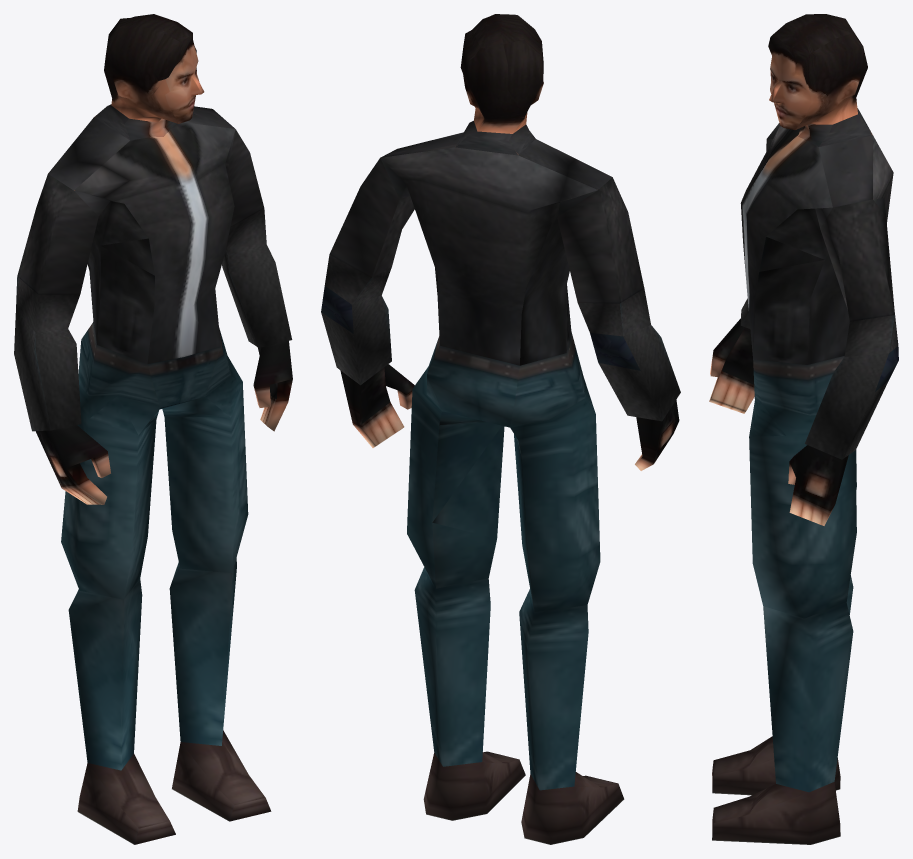
Rendered from Manuel66.obj.
3 renders of one model, left to right at view 1: azimuth 30°, elevation 25°; view 2: azimuth 150°, elevation 25°; view 3: azimuth 270°, elevation 25°, orthographic. The views are drawn at different scales.
Visible parts, largest first — view 1: leon; view 2: leon; view 3: leon.
Boxes of the visible parts, x1=… form: leon: x1=14, y1=14, x2=292, y2=844; leon: x1=321, y1=14, x2=680, y2=844; leon: x1=709, y1=14, x2=898, y2=844.
Bounding box in the file's own units: 4.69 × 12.19 × 2.66.
Materials: 1 (1 with a texture image).
